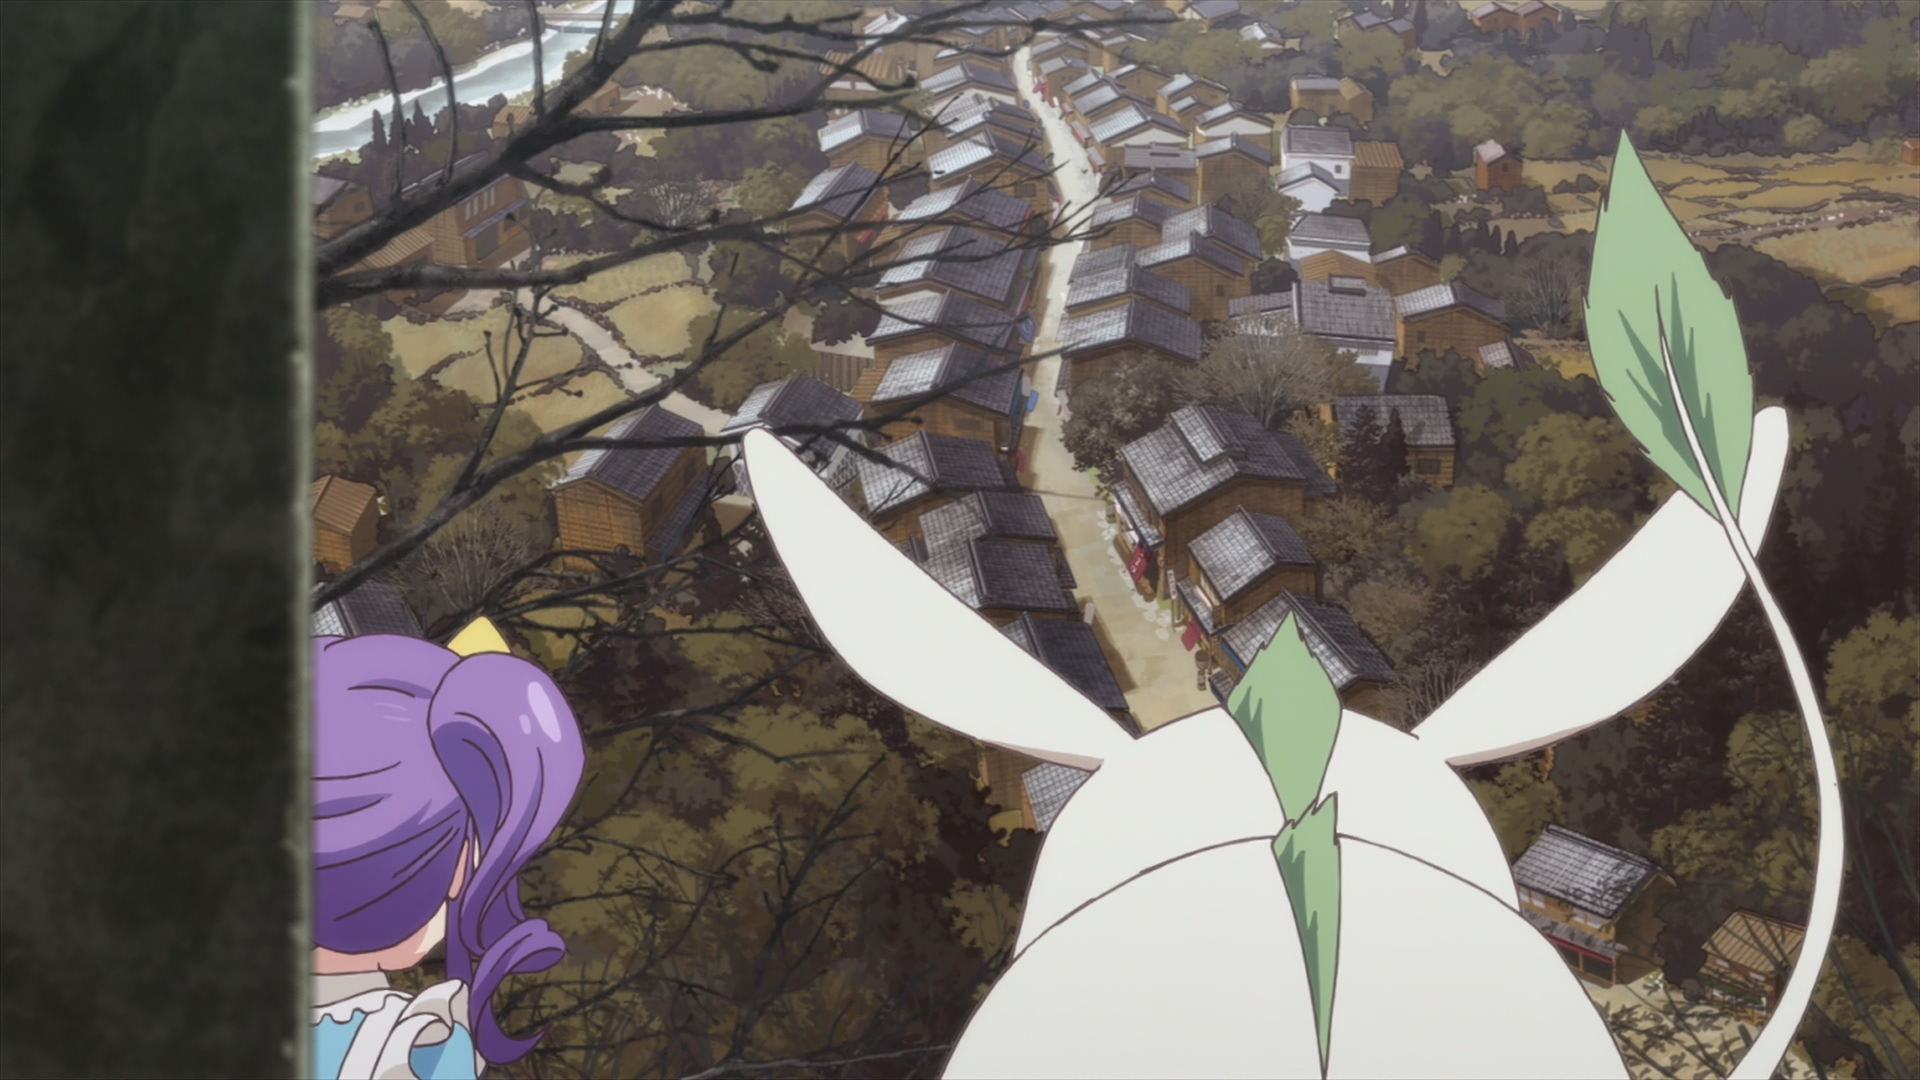瓜之介: (742, 128, 1845, 1080)
阿菊: (316, 616, 587, 1080)
